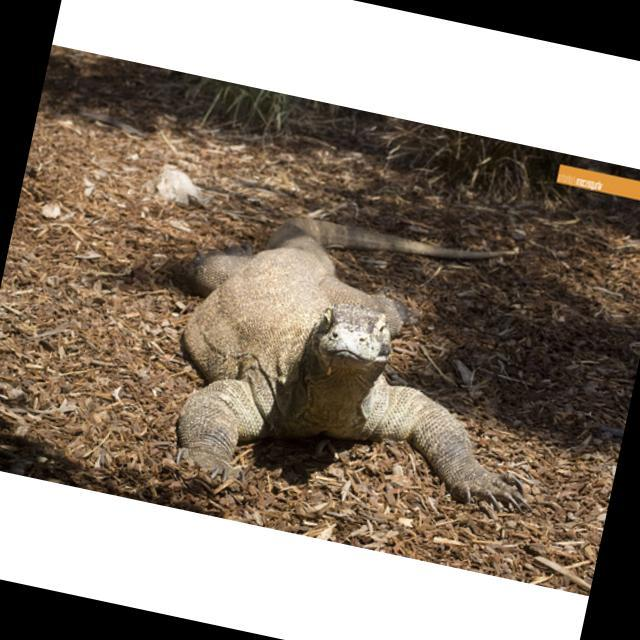KomodoDragon: (135, 173, 574, 543)
